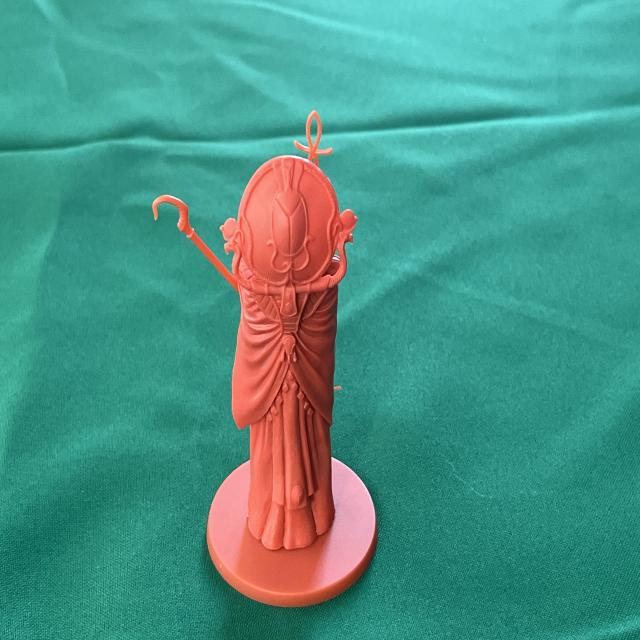amon: (146, 101, 381, 611)
